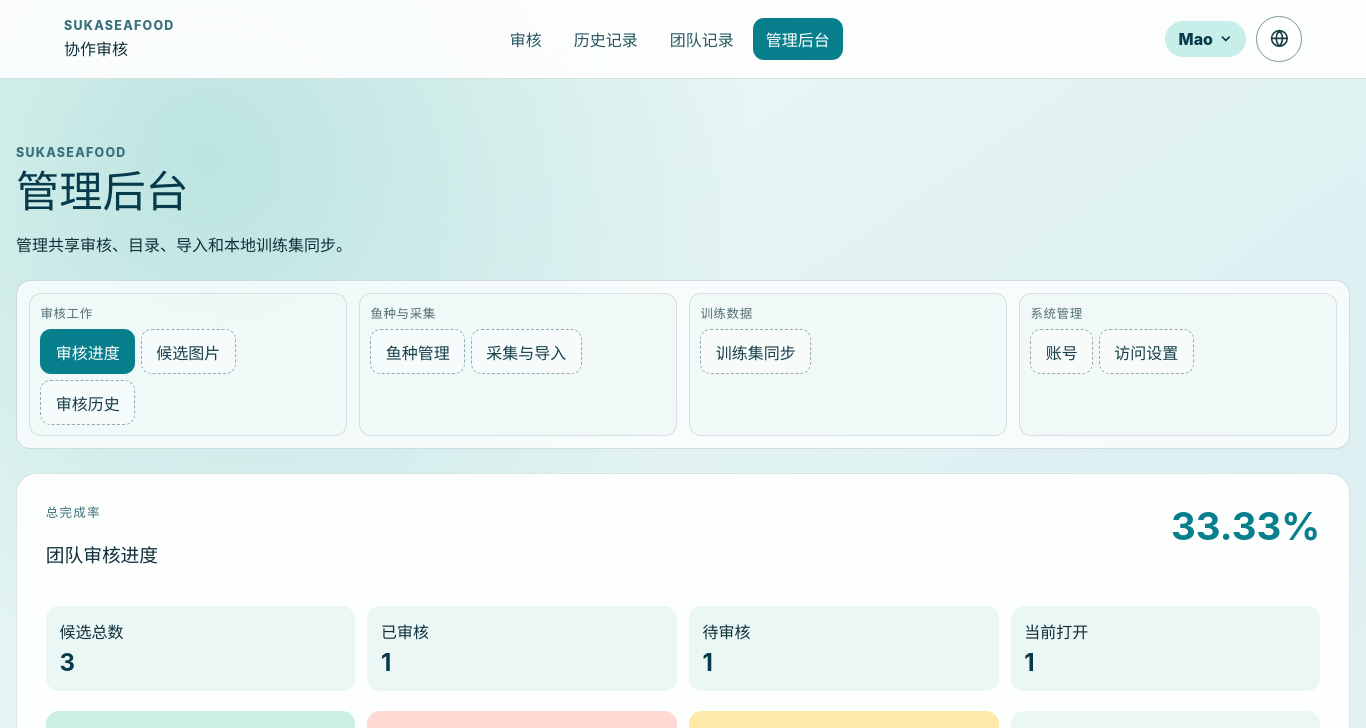
Test: progress/current and candidate safety › bulk-disables the selected candidate source without editing cards one by one
Click the tab "候选图片" at (188, 352), box [141, 329, 236, 374]
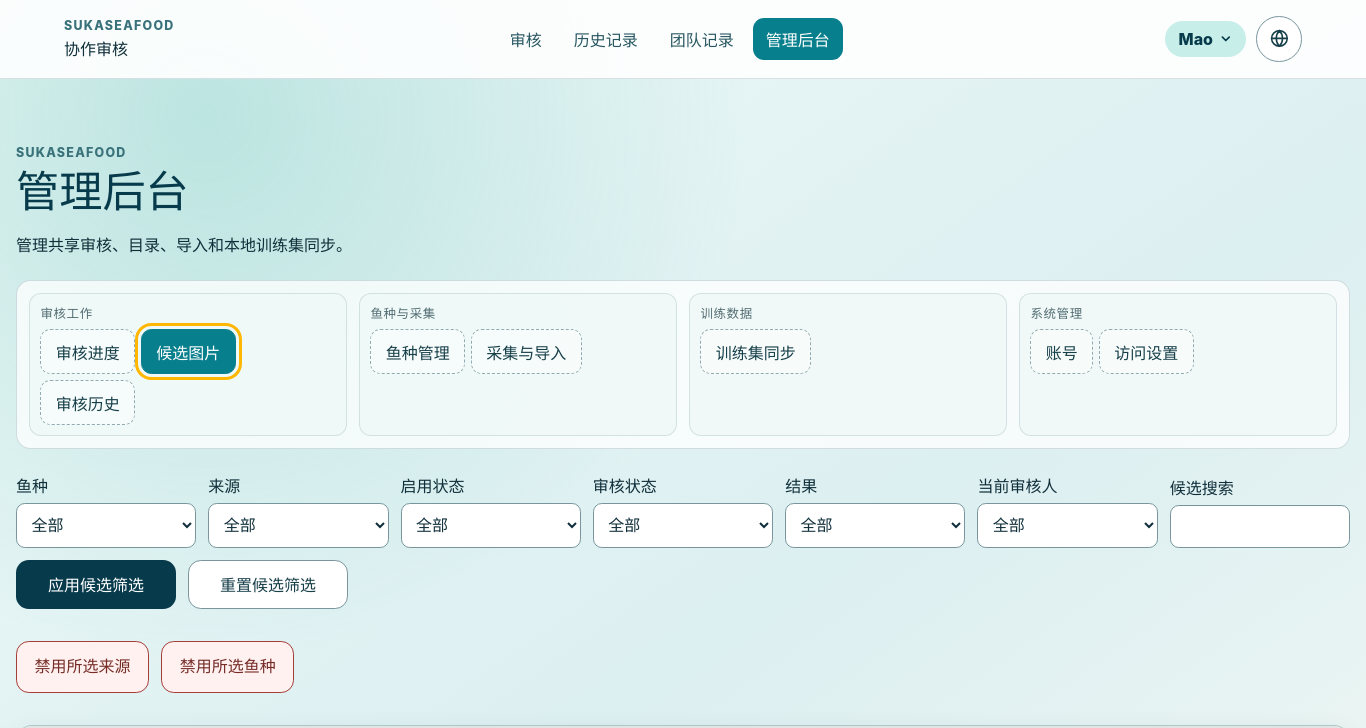
Expected: the button "禁用所选来源" is disabled, [16, 641, 149, 693]
Expected: the button "禁用所选鱼种" is disabled, [161, 641, 294, 693]
Select "iNaturalist" in the dropdown labelled "来源" at (298, 526), box [208, 503, 389, 548]
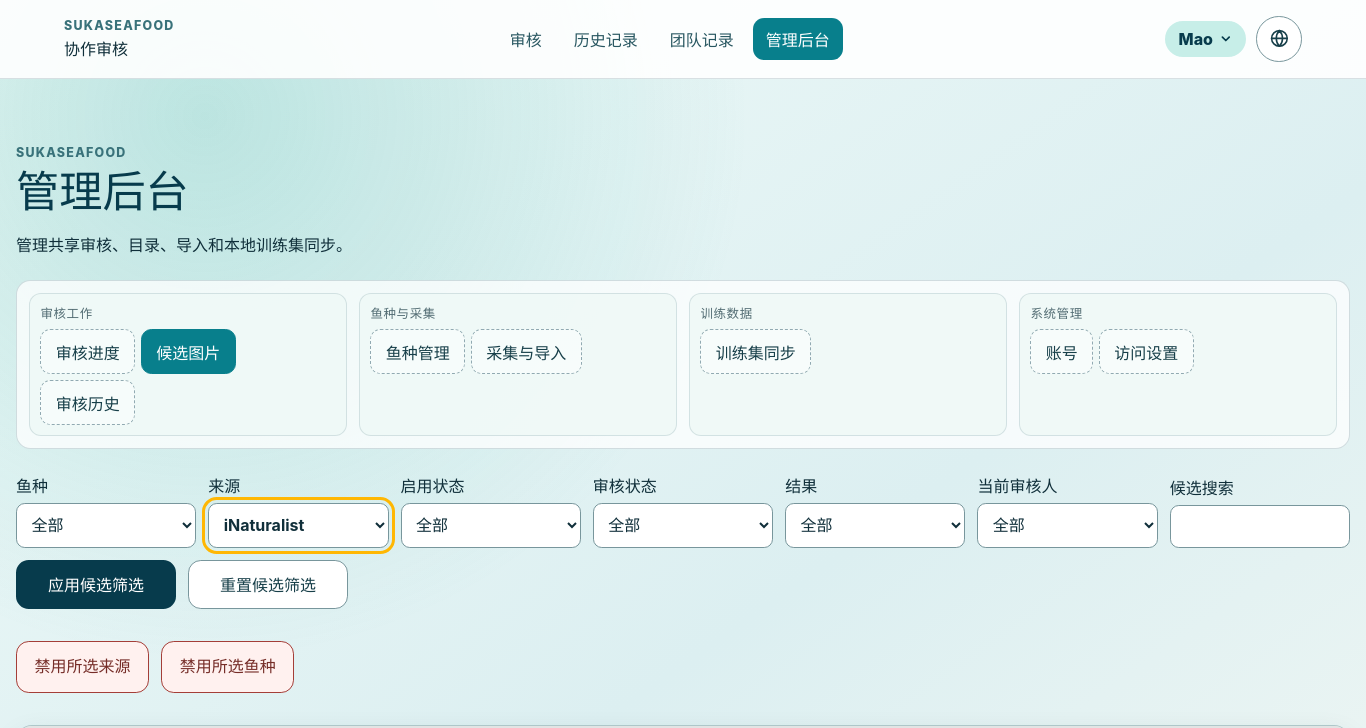
Select "SF001 · 测试鱼" in the dropdown labelled "鱼种" at (106, 526), box [16, 503, 196, 548]
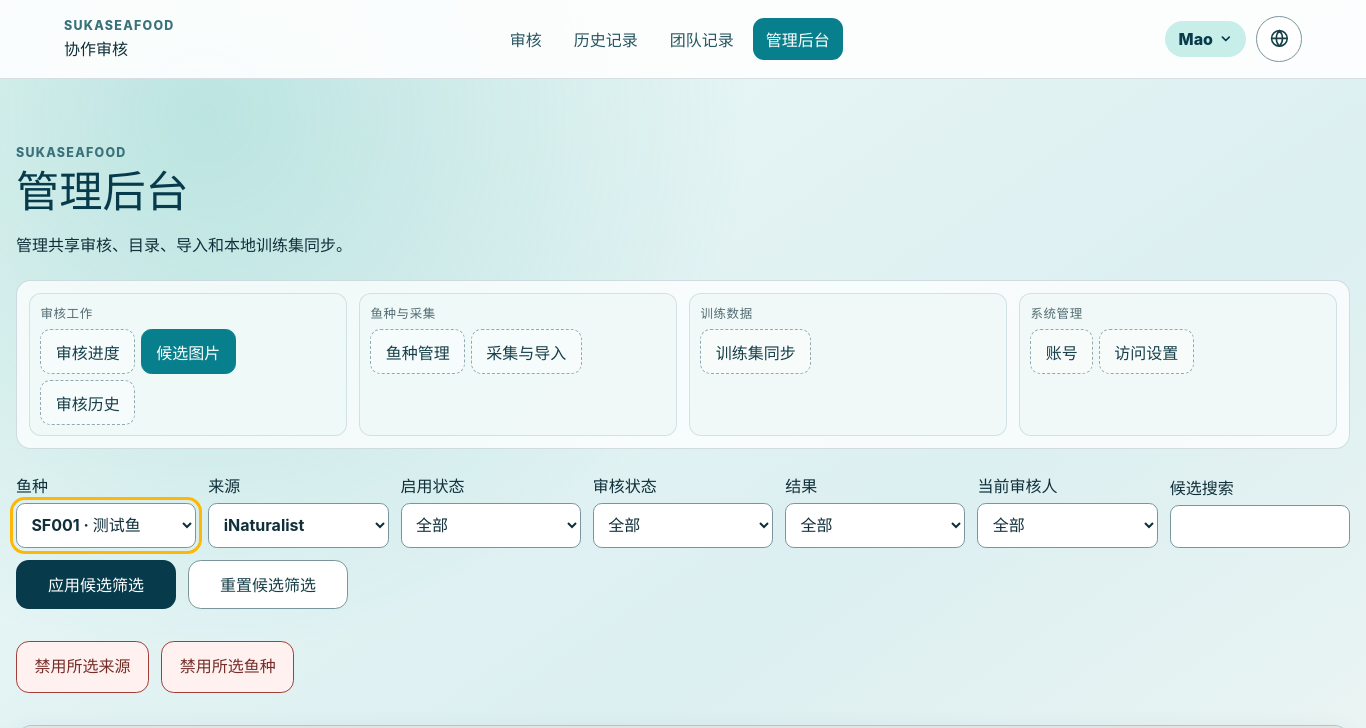
Expected: the button "禁用所选鱼种" is enabled, [161, 641, 294, 693]
Expected: the button "禁用所选来源" is enabled
Click the button "禁用所选来源" at (83, 667), box [16, 641, 149, 693]
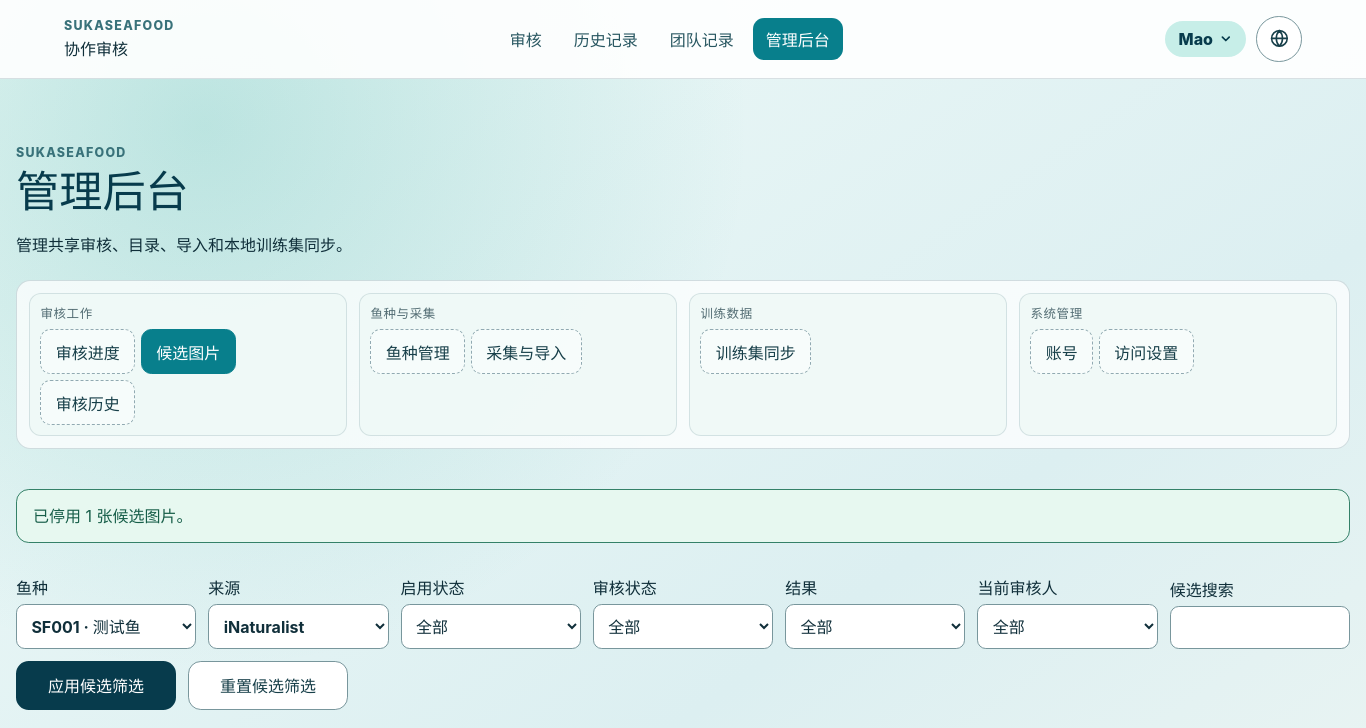
Expected: the message shows "已停用 1 张候选图片", [33, 506, 192, 526]
